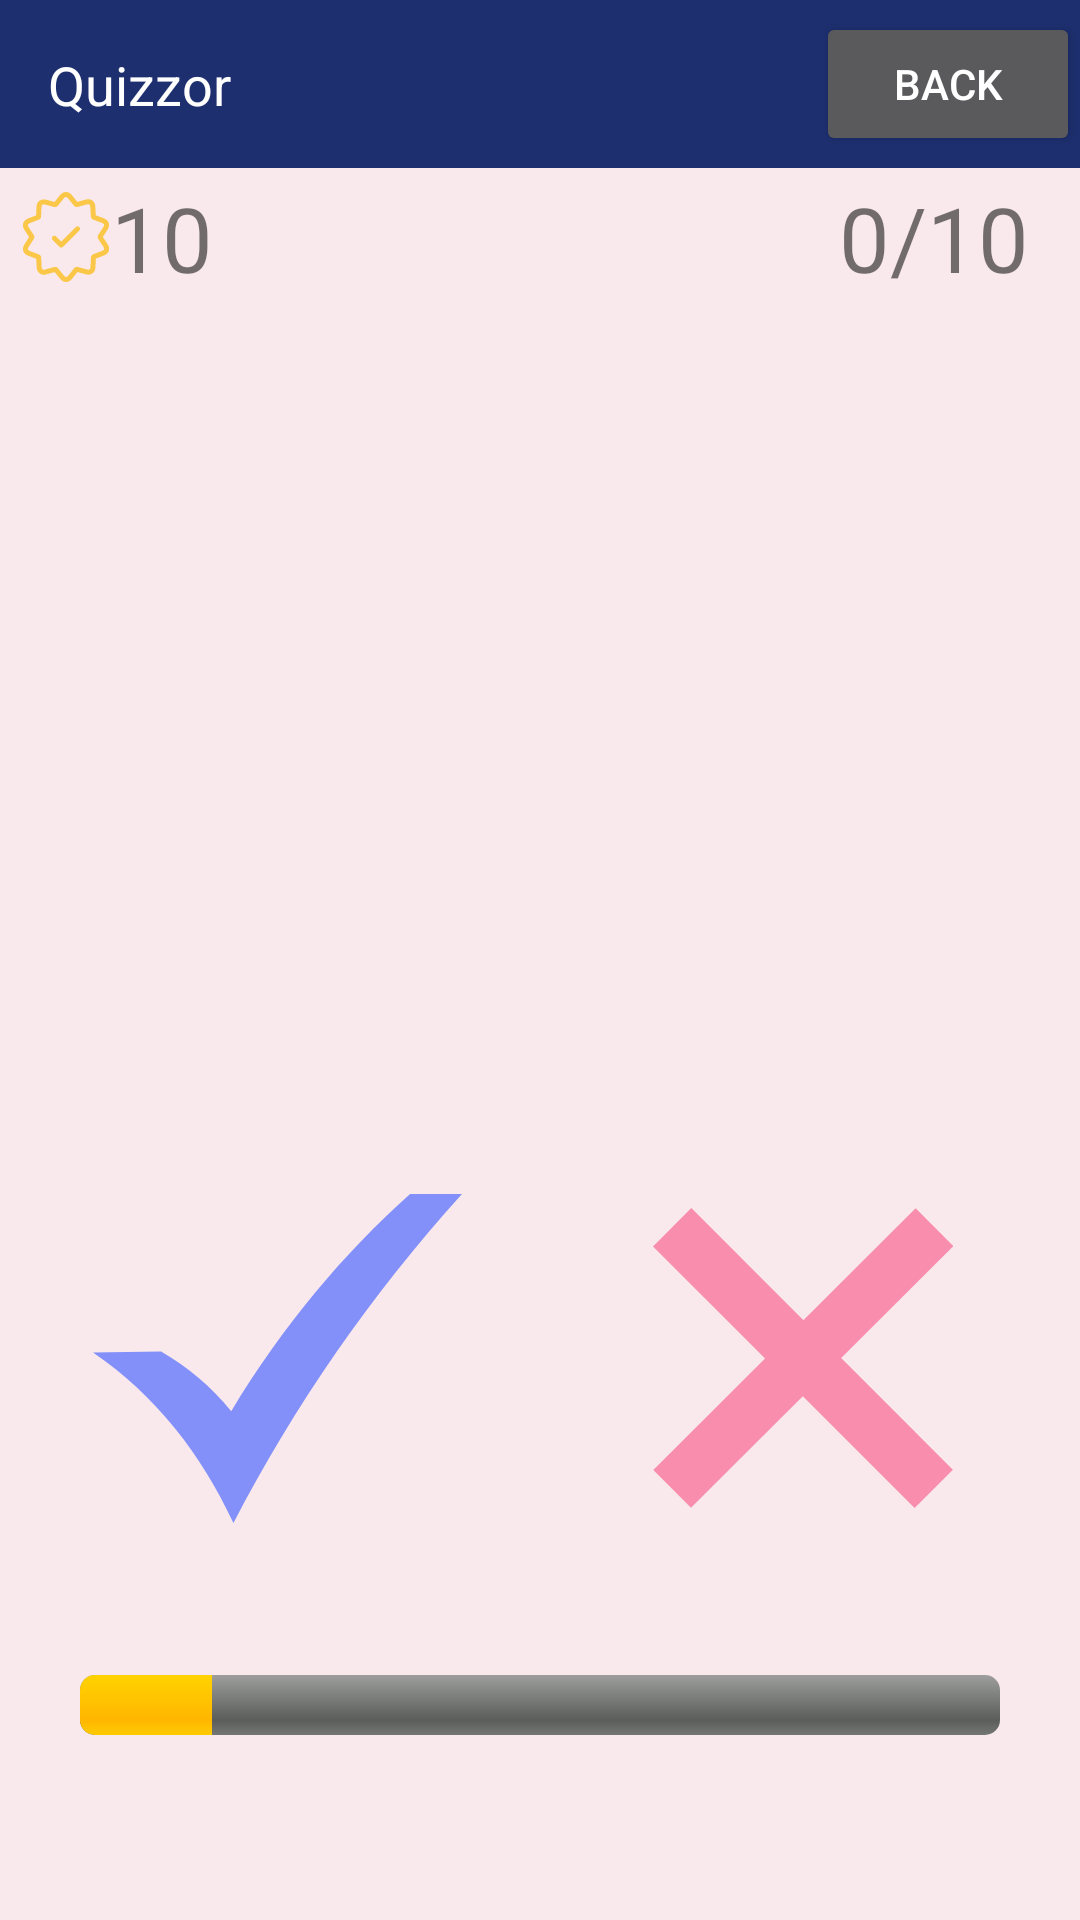

Screen size 1080 x 1920. Icon name, then its box in pixels as (x1=x1, y1=y1, x2=x2, y2=y2):
false: (x1=653, y1=1208, x2=953, y2=1508)
